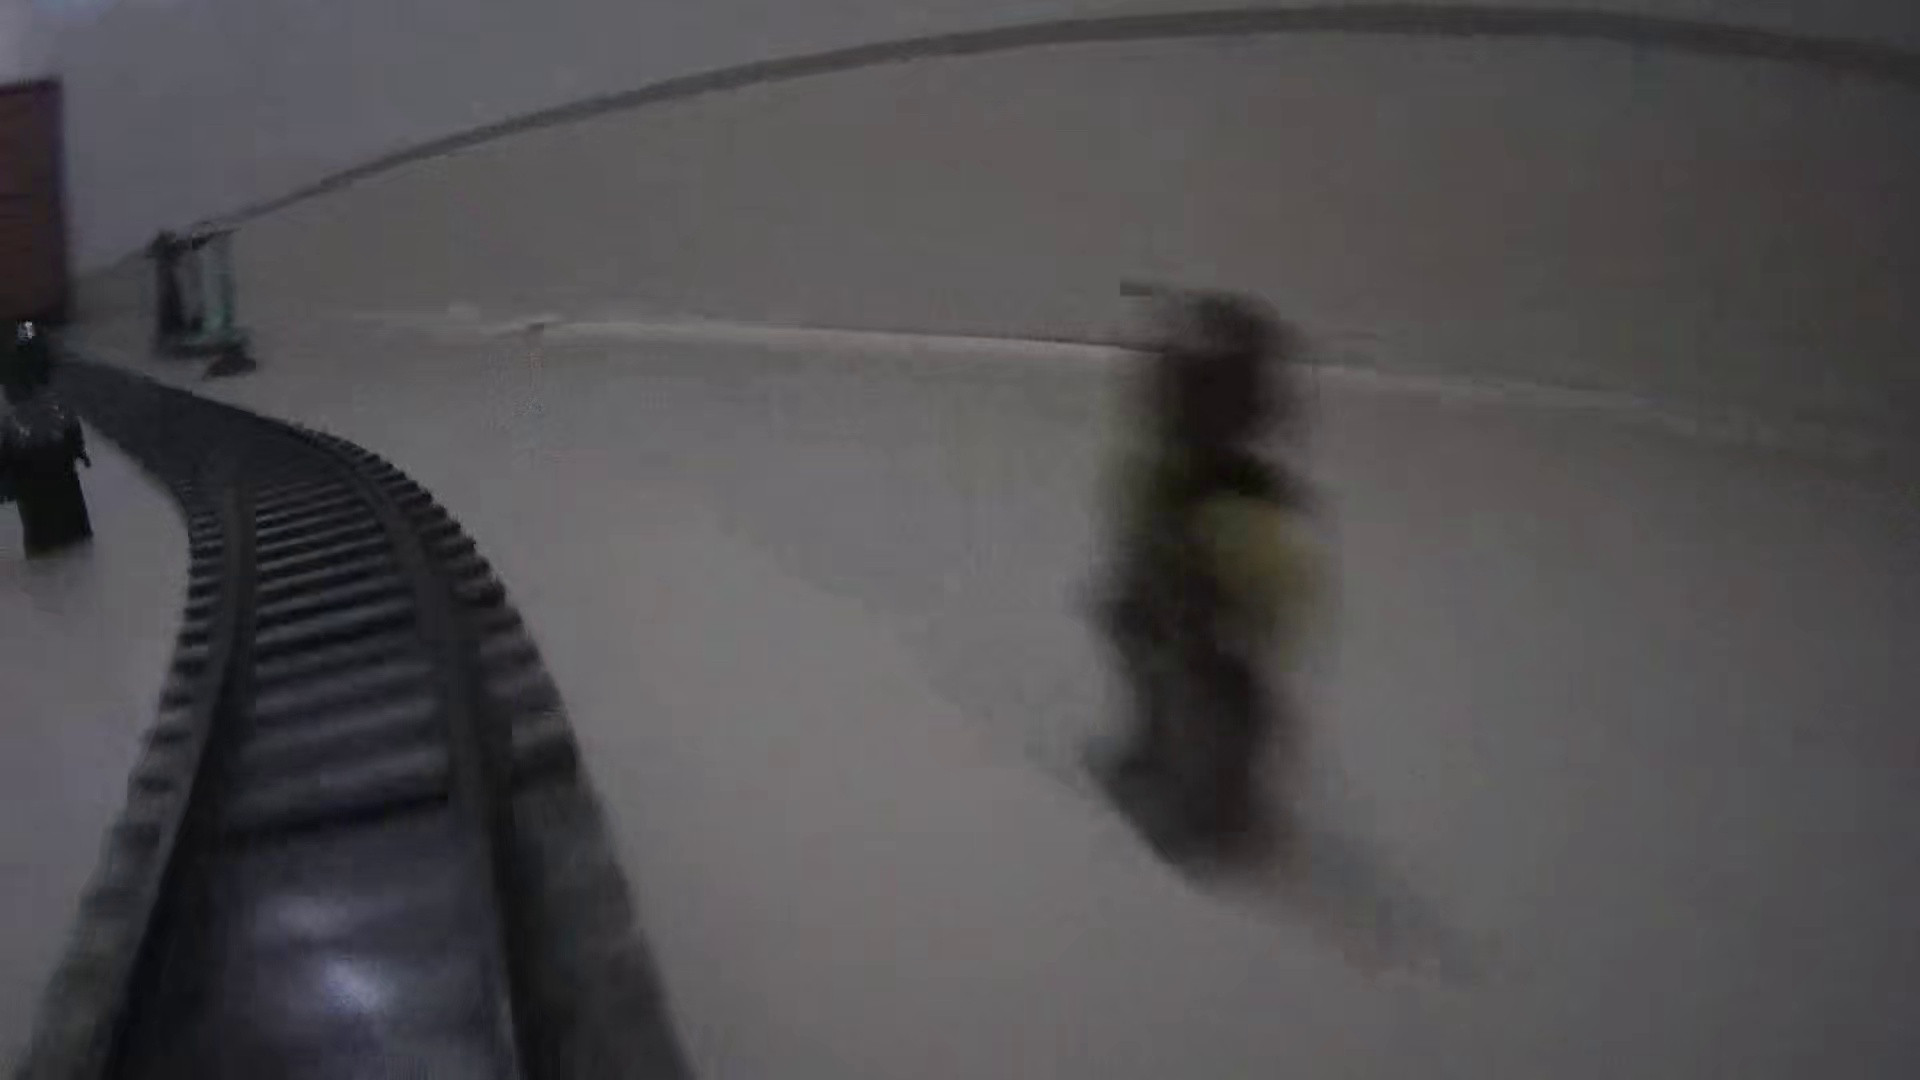people: (1061, 287, 1336, 876), (1, 310, 99, 563)
